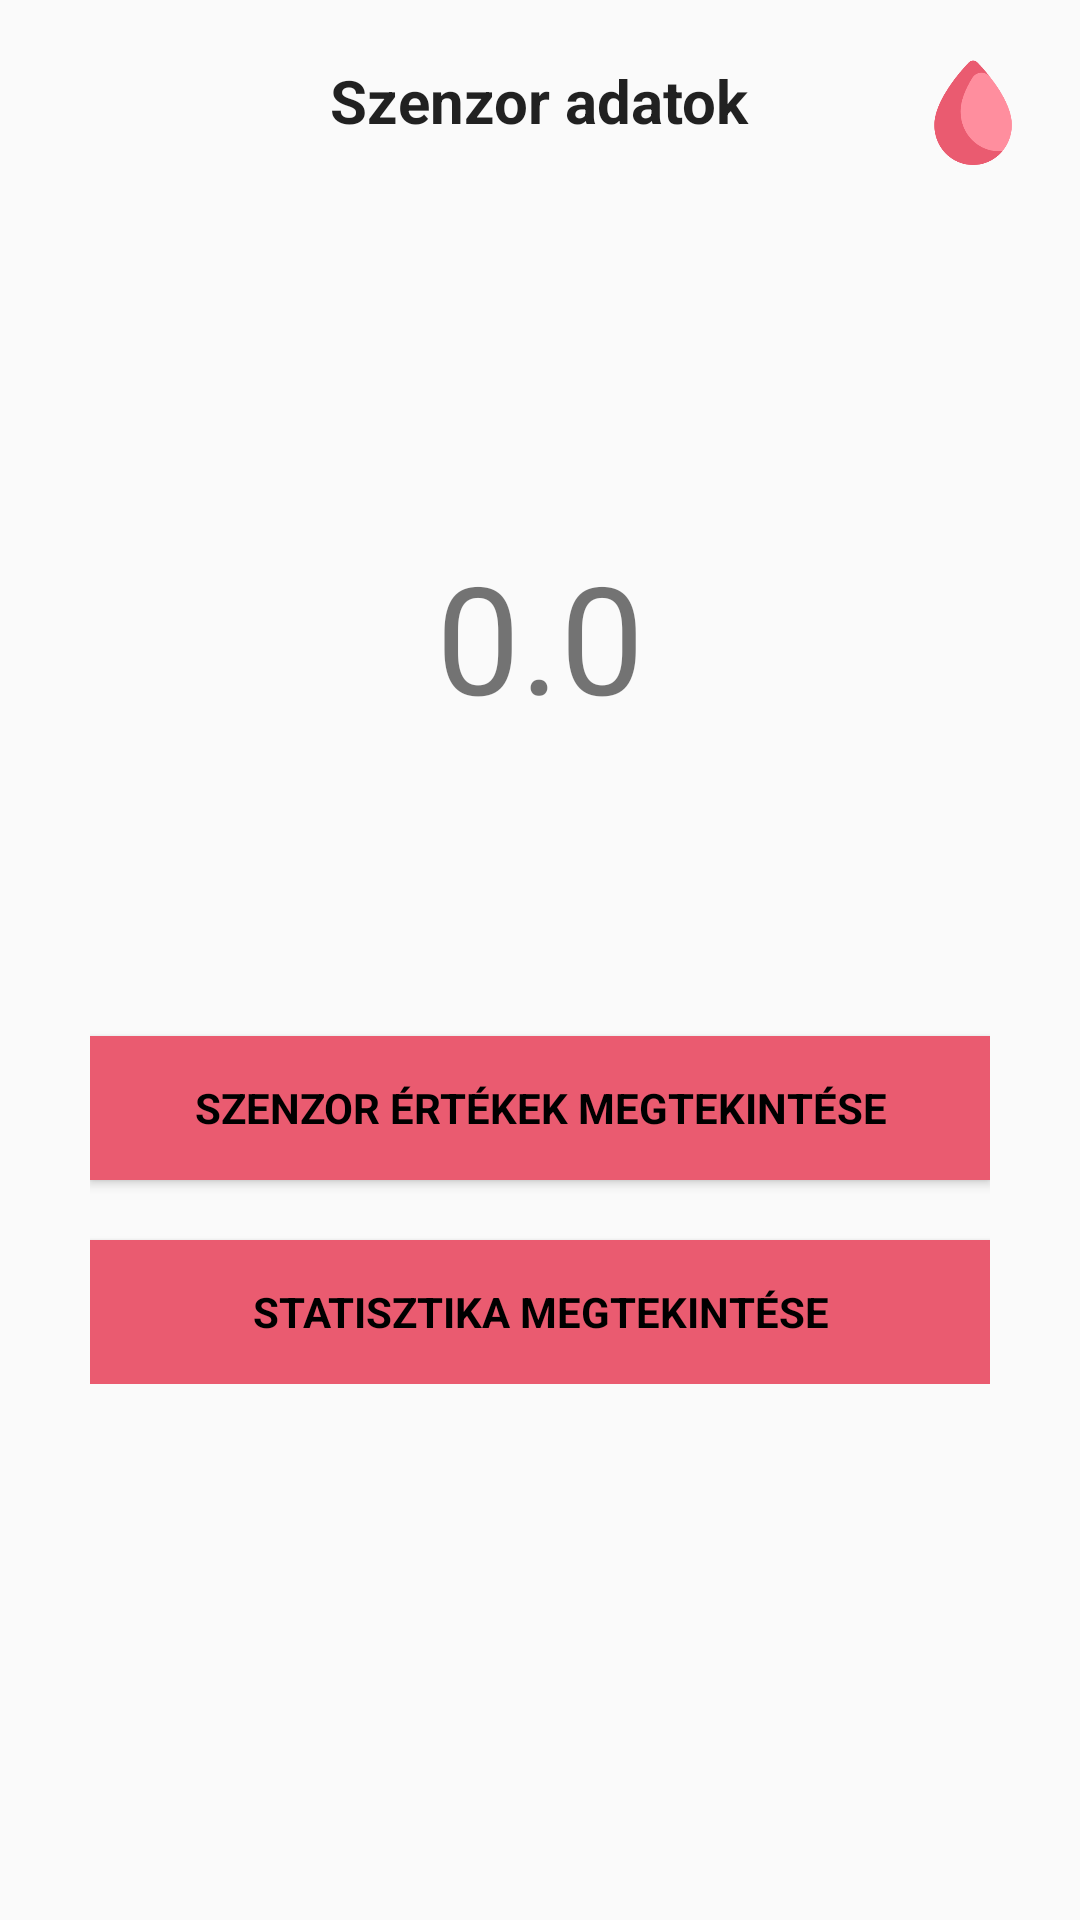

Locate icon controls on the screen. Image size 1080px x 1920px, boxes as (x1, y1, x2, y2).
blood: (934, 60, 1012, 165)
